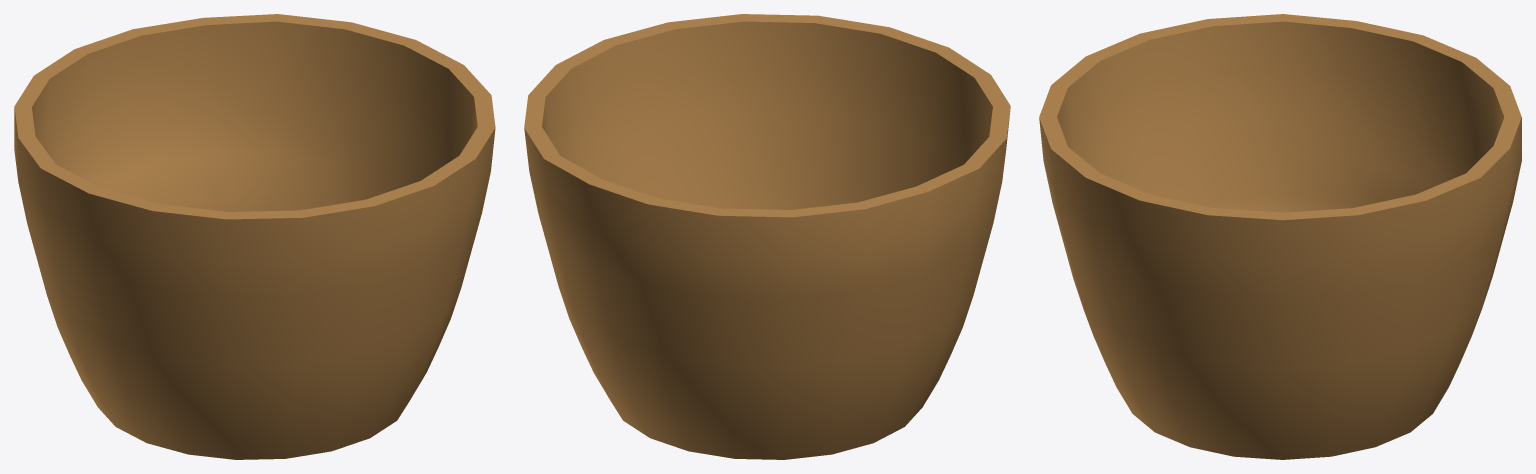
Rendered from pot.fbx.
3 renders of one model, left to right at view 1: azimuth 30°, elevation 25°; view 2: azimuth 150°, elevation 25°; view 3: azimuth 270°, elevation 25°, orthographic.
Parts seen in each view (by area): view 1: pCylinder4; view 2: pCylinder4; view 3: pCylinder4.
Boxes of the visible parts, left/top/right/bottom form: pCylinder4: left=14, top=14, right=495, bottom=459; pCylinder4: left=524, top=14, right=1010, bottom=459; pCylinder4: left=1039, top=14, right=1521, bottom=459.
Size of the model in its own units: 2.14 by 1.33 by 2.11.
